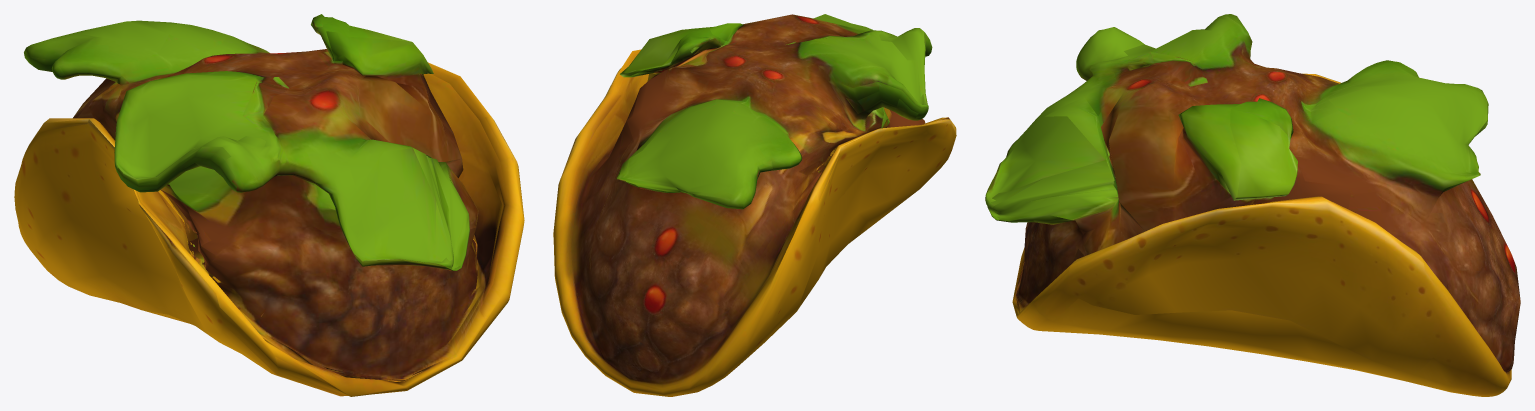
Rendered from Taco.glb.
3 views of the same model, side by side, from view 1: azimuth 30°, elevation 25°; view 2: azimuth 150°, elevation 25°; view 3: azimuth 270°, elevation 25° (orthographic). The views are drawn at different scales.
Visible parts, largest first — view 1: Taco; view 2: Taco; view 3: Taco.
Part boxes in pixels (x1=…): Taco: x1=14, y1=14, x2=524, y2=396; Taco: x1=553, y1=14, x2=956, y2=396; Taco: x1=985, y1=14, x2=1520, y2=396.
Size of the model in its own units: 0.5178 by 0.4726 by 0.7408.
Materials: 1 (1 with a texture image).
